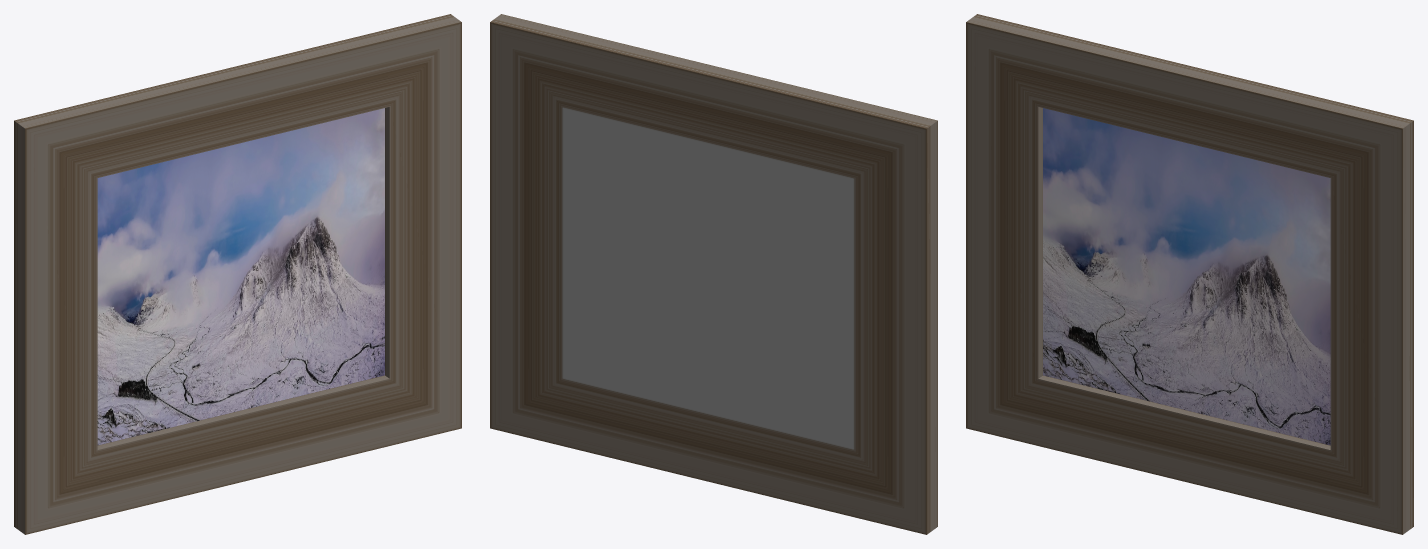
Rendered from Frame_015.FBX.
3 views of the same model, side by side, from view 1: azimuth 30°, elevation 25°; view 2: azimuth 150°, elevation 25°; view 3: azimuth 330°, elevation 25° (orthographic).
Parts seen in each view (by area): view 1: Frame_015; view 2: Frame_015; view 3: Frame_015.
Part boxes in pixels (x1=…): Frame_015: x1=14, y1=14, x2=461, y2=534; Frame_015: x1=490, y1=14, x2=937, y2=534; Frame_015: x1=966, y1=14, x2=1413, y2=534.
Bounding box in the file's own units: 810 × 36 × 720.
